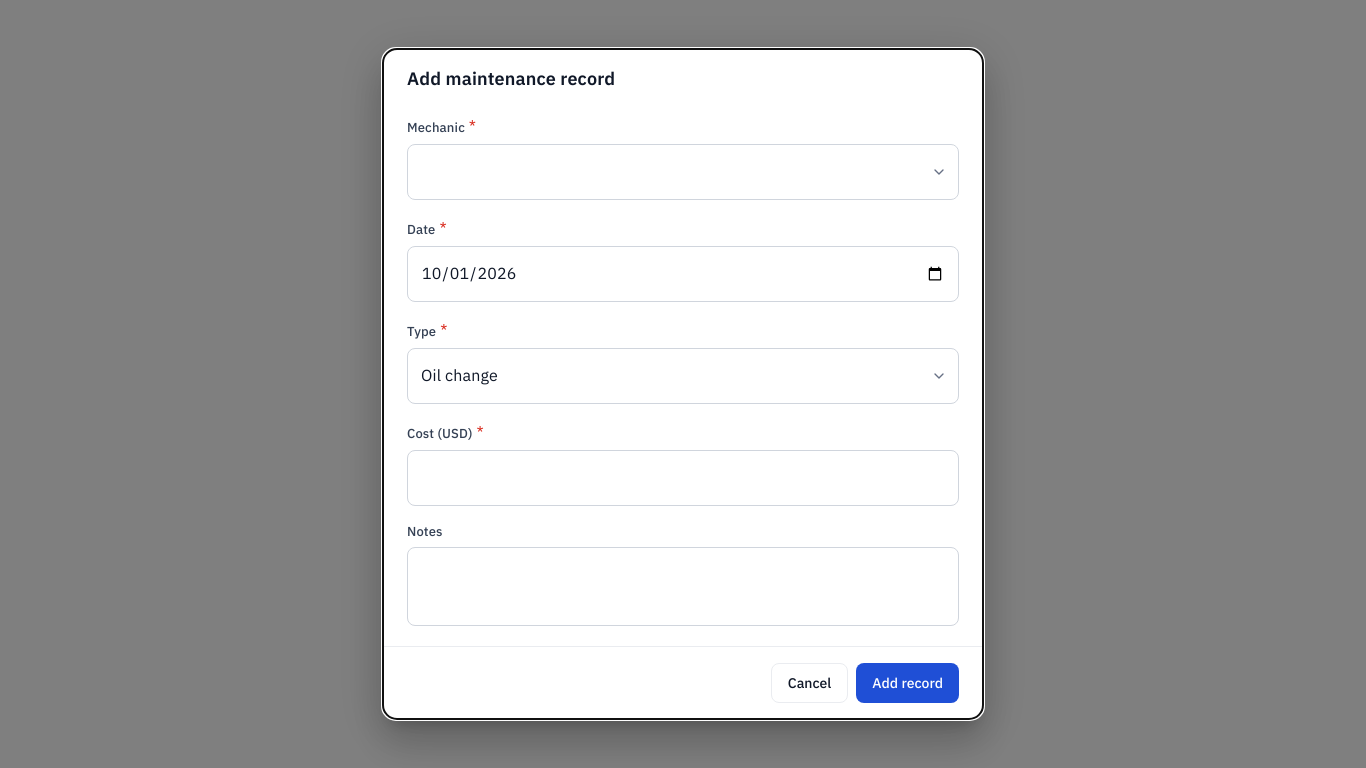
Scenario: RecordDialog › offers inactive mechanics too, tagged so they are recognisable
Click the dropdown named "Mechanic" at (683, 172), box [407,144,959,200]
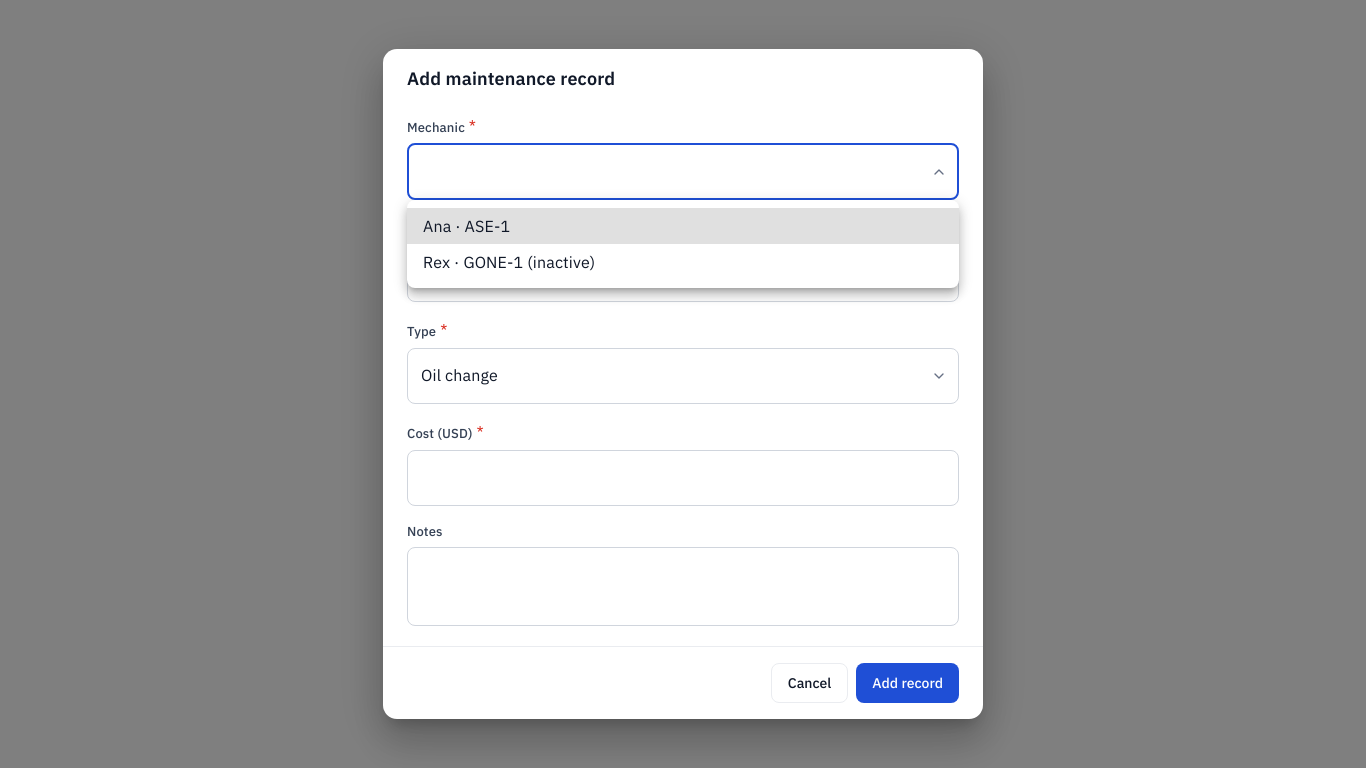
expect the options read "Ana · ASE-1", "Rex · GONE-1 (inactive)", in this order: met, box [407,208,959,244]; [423,252,595,272]
